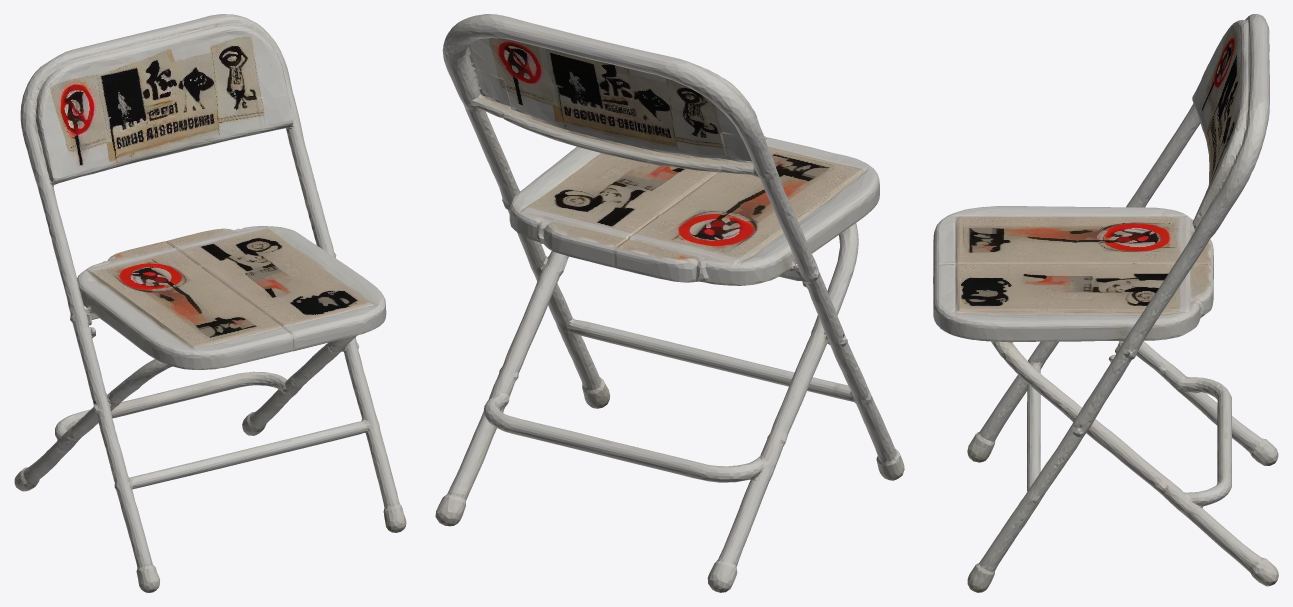
File: belly (283).glb
3 views of the same model, side by side, from view 1: azimuth 30°, elevation 25°; view 2: azimuth 150°, elevation 25°; view 3: azimuth 270°, elevation 25° (orthographic). The views are drawn at different scales.
Visible parts, largest first — view 1: Hy21_Mesh.obj; view 2: Hy21_Mesh.obj; view 3: Hy21_Mesh.obj.
Boxes of the visible parts, bbox=[...] form: Hy21_Mesh.obj: bbox=[14, 14, 406, 592]; Hy21_Mesh.obj: bbox=[435, 14, 904, 592]; Hy21_Mesh.obj: bbox=[933, 14, 1278, 592].
Size of the model in its own units: 1.25 by 1.95 by 1.31.
1 material, 1 textured.
